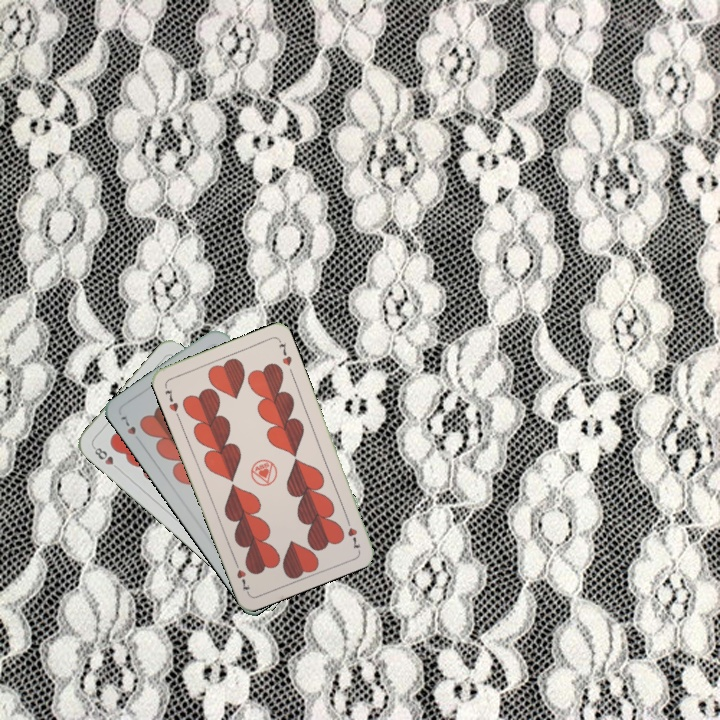H7: (342, 513, 363, 551), (161, 385, 181, 414), (116, 412, 139, 437)
H8: (89, 442, 123, 473)
